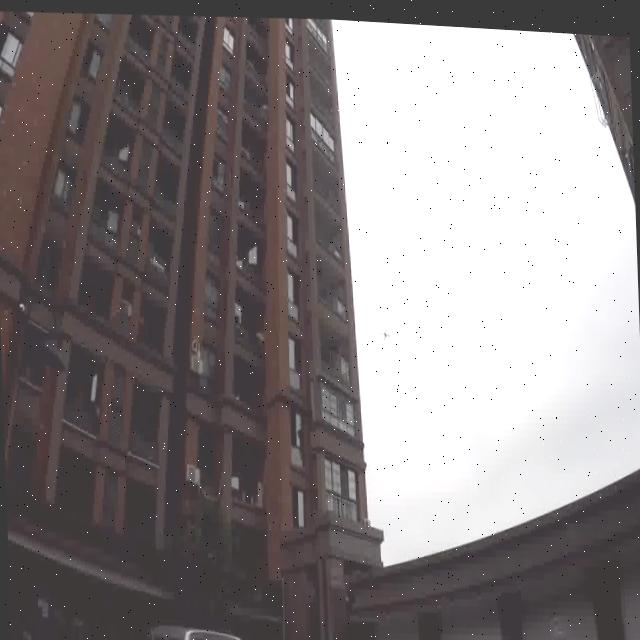drone: (379, 319, 390, 337)
